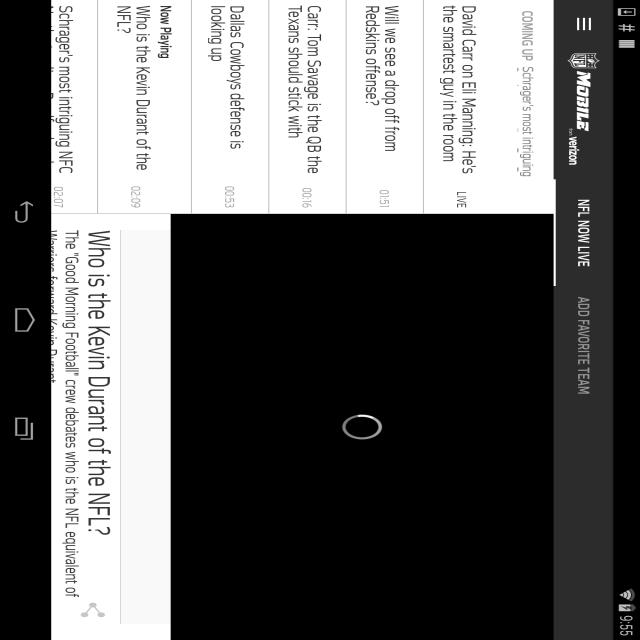ImageButton: (9, 17, 68, 54)
ImageView: (342, 54, 640, 293), (85, 25, 270, 46)
TextView: (368, 348, 640, 376), (9, 100, 298, 126), (8, 148, 295, 174), (8, 352, 290, 378), (9, 245, 289, 271), (8, 197, 292, 222), (9, 304, 289, 329), (368, 328, 640, 348), (368, 300, 640, 318), (8, 291, 333, 302), (98, 64, 324, 76), (475, 30, 631, 41), (304, 30, 441, 41), (17, 64, 98, 76), (298, 310, 332, 320), (298, 359, 333, 368), (298, 252, 332, 261), (300, 204, 333, 212), (306, 107, 333, 116), (303, 156, 333, 164)
